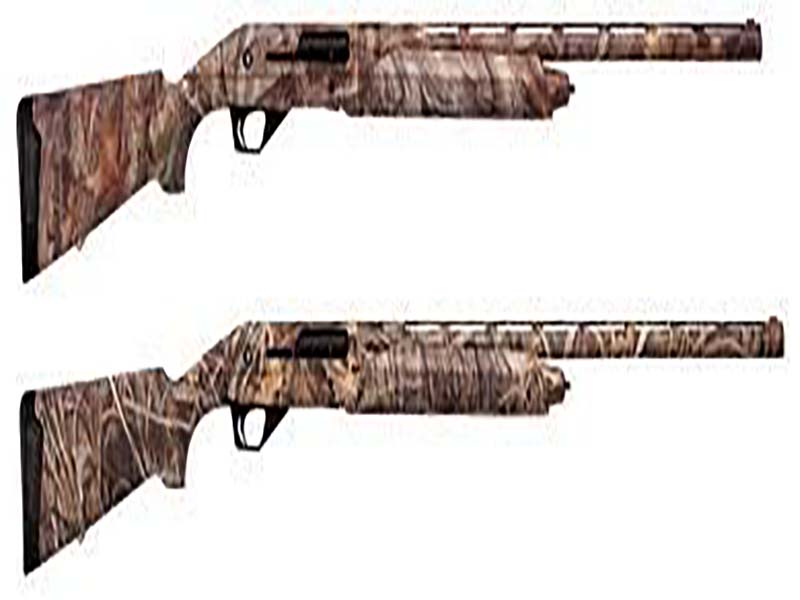fucile: (15, 306, 793, 578), (10, 11, 774, 285)
